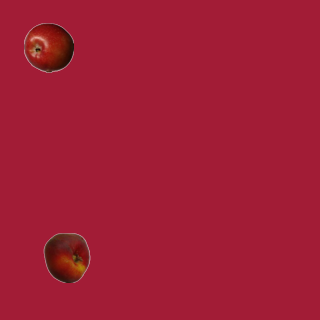Apple Braeburn: (23, 22, 73, 72)
Nectarine Flat: (41, 232, 91, 282)
